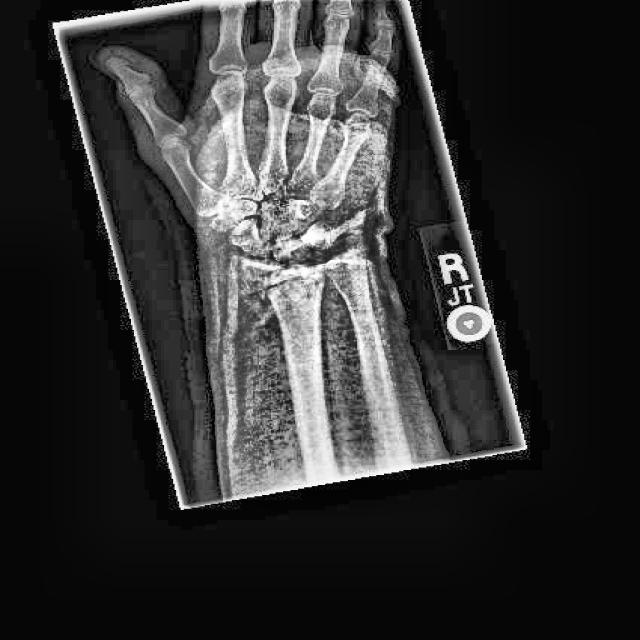wrist positive: (259, 241, 375, 306)
